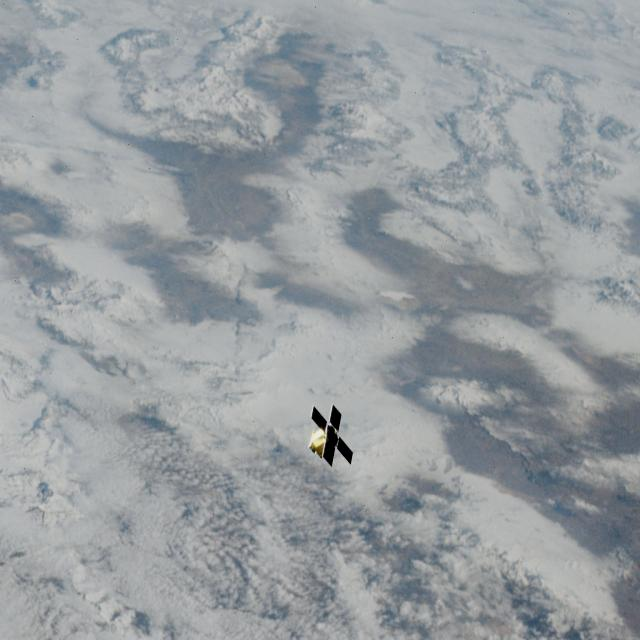satellite: (302, 399, 366, 473)
